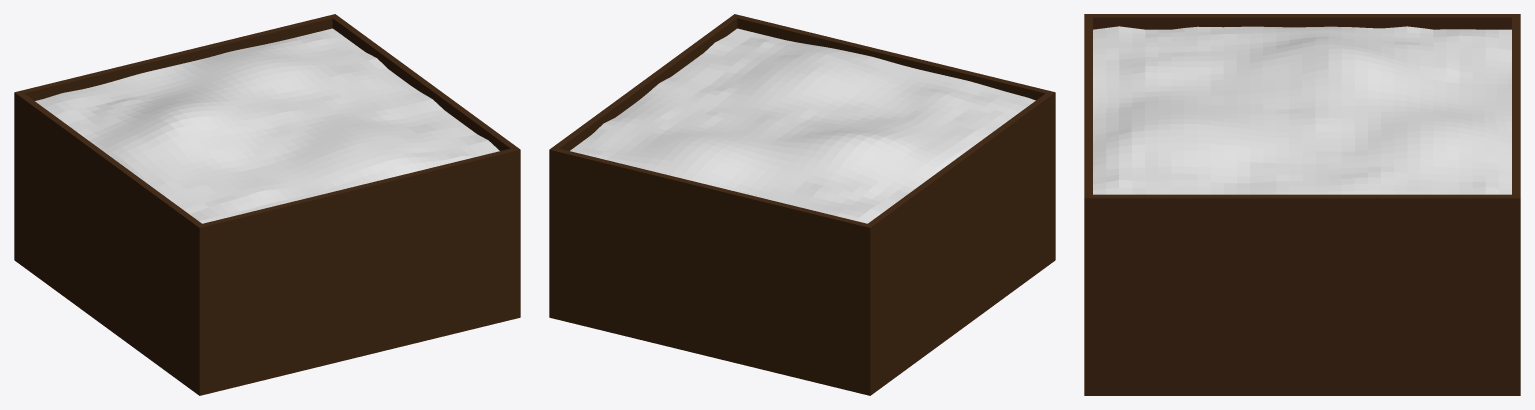
File: TileV1.fbx
3 views of the same model, side by side, from view 1: azimuth 30°, elevation 25°; view 2: azimuth 150°, elevation 25°; view 3: azimuth 270°, elevation 25° (orthographic). The views are drawn at different scales.
Parts seen in each view (by area): view 1: Cube, Cube.001; view 2: Cube, Cube.001; view 3: Cube, Cube.001.
Boxes of the visible parts, x1,y1,x2,y2 form: Cube: [14, 14, 520, 395]; Cube.001: [35, 28, 499, 223]; Cube: [549, 14, 1055, 395]; Cube.001: [570, 28, 1035, 223]; Cube: [1084, 14, 1520, 395]; Cube.001: [1093, 26, 1511, 194].
Bounding box in the file's own units: 200 × 107 × 200.
